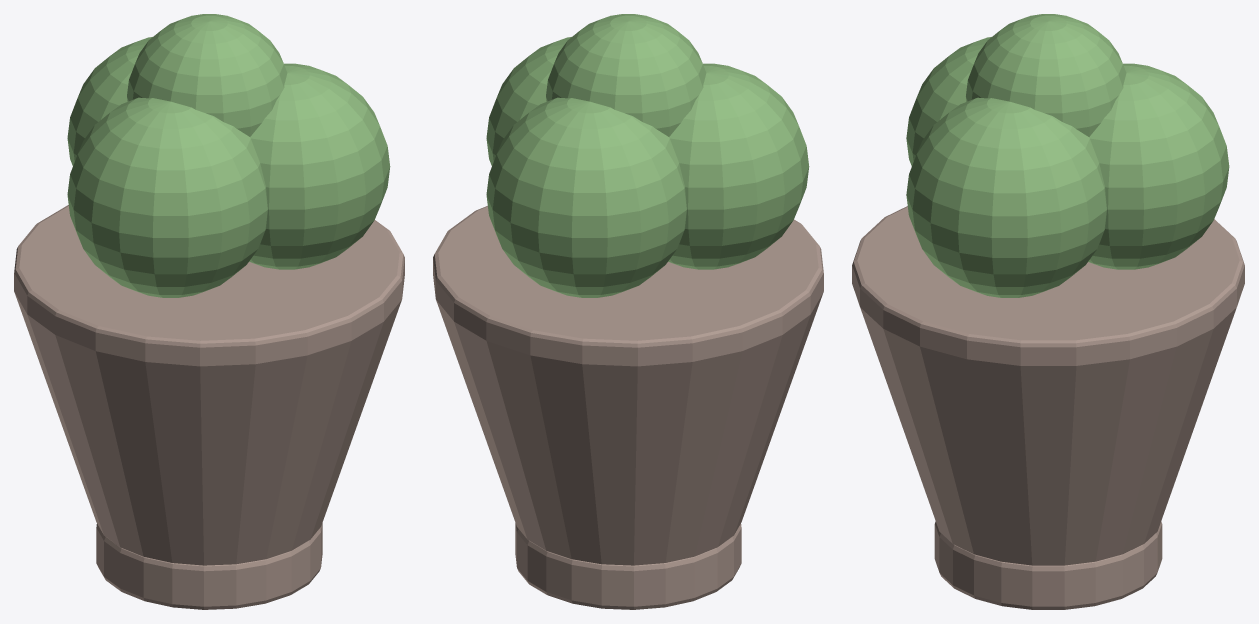
The model's file is pot.glb.
The picture shows the model from 3 angles, left to right: view 1: azimuth 30°, elevation 25°; view 2: azimuth 150°, elevation 25°; view 3: azimuth 270°, elevation 25°; orthographic projection.
Visible parts, largest first — view 1: pot; view 2: pot; view 3: pot.
Boxes of the visible parts, x1,y1,x2,y2 form: pot: [14, 14, 404, 609]; pot: [433, 14, 823, 609]; pot: [852, 14, 1244, 609].
Size of the model in its own units: 0.7523 by 1.16 by 0.76.
